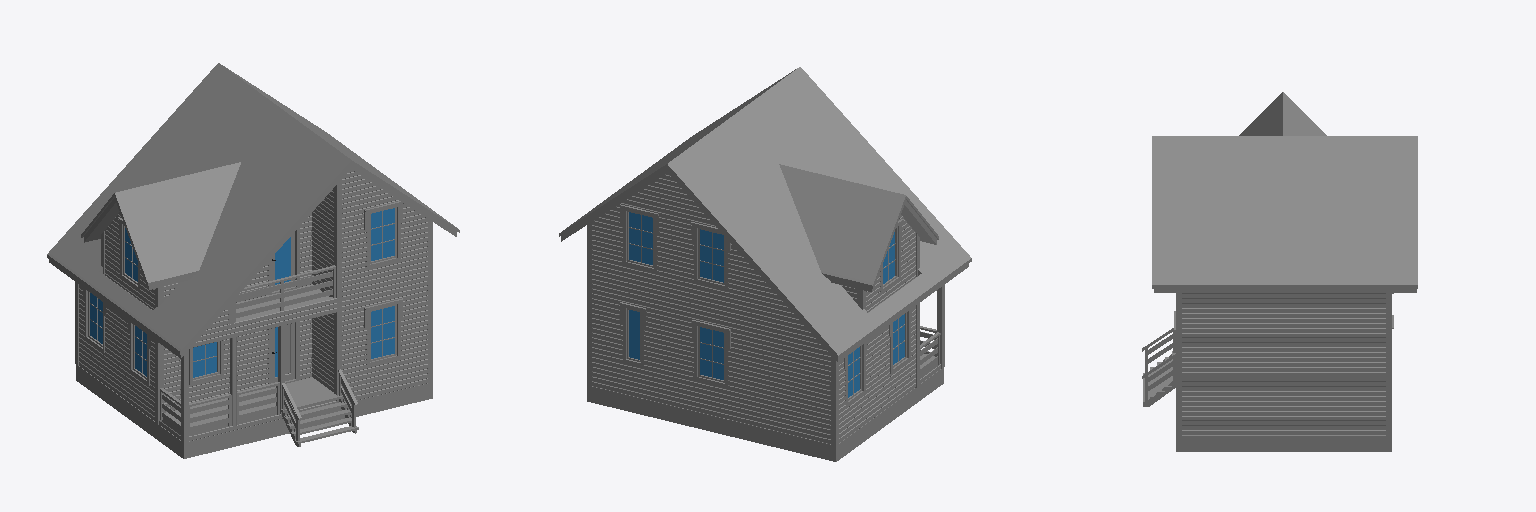
3 views of the same model, side by side, from view 1: azimuth 30°, elevation 25°; view 2: azimuth 150°, elevation 25°; view 3: azimuth 270°, elevation 25° (orthographic).
Parts seen in each view (by area): view 1: roof, walls, Box375, Box001, windows001, glass, StraightStair001, Box303; view 2: roof, walls, Box001, windows001, glass, Box375; view 3: roof, walls, Box001, Box375, StraightStair001.
Boxes of the visible parts, x1,y1,x2,y2 form: roof: [47, 63, 459, 358]; walls: [79, 169, 427, 440]; Box375: [75, 180, 432, 442]; Box001: [76, 365, 432, 458]; windows001: [83, 201, 403, 387]; glass: [90, 208, 394, 377]; StraightStair001: [281, 369, 358, 446]; Box303: [236, 284, 329, 319]; roof: [559, 67, 971, 361]; walls: [592, 173, 940, 443]; Box001: [587, 354, 943, 461]; windows001: [620, 204, 911, 406]; glass: [629, 212, 904, 397]; Box375: [587, 222, 944, 445]; roof: [1152, 92, 1417, 292]; walls: [1182, 293, 1385, 434]; Box001: [1176, 435, 1391, 451]; Box375: [1176, 293, 1391, 435]; StraightStair001: [1142, 328, 1175, 406].
Size of the model in its own units: 8986 by 8294 by 7709.